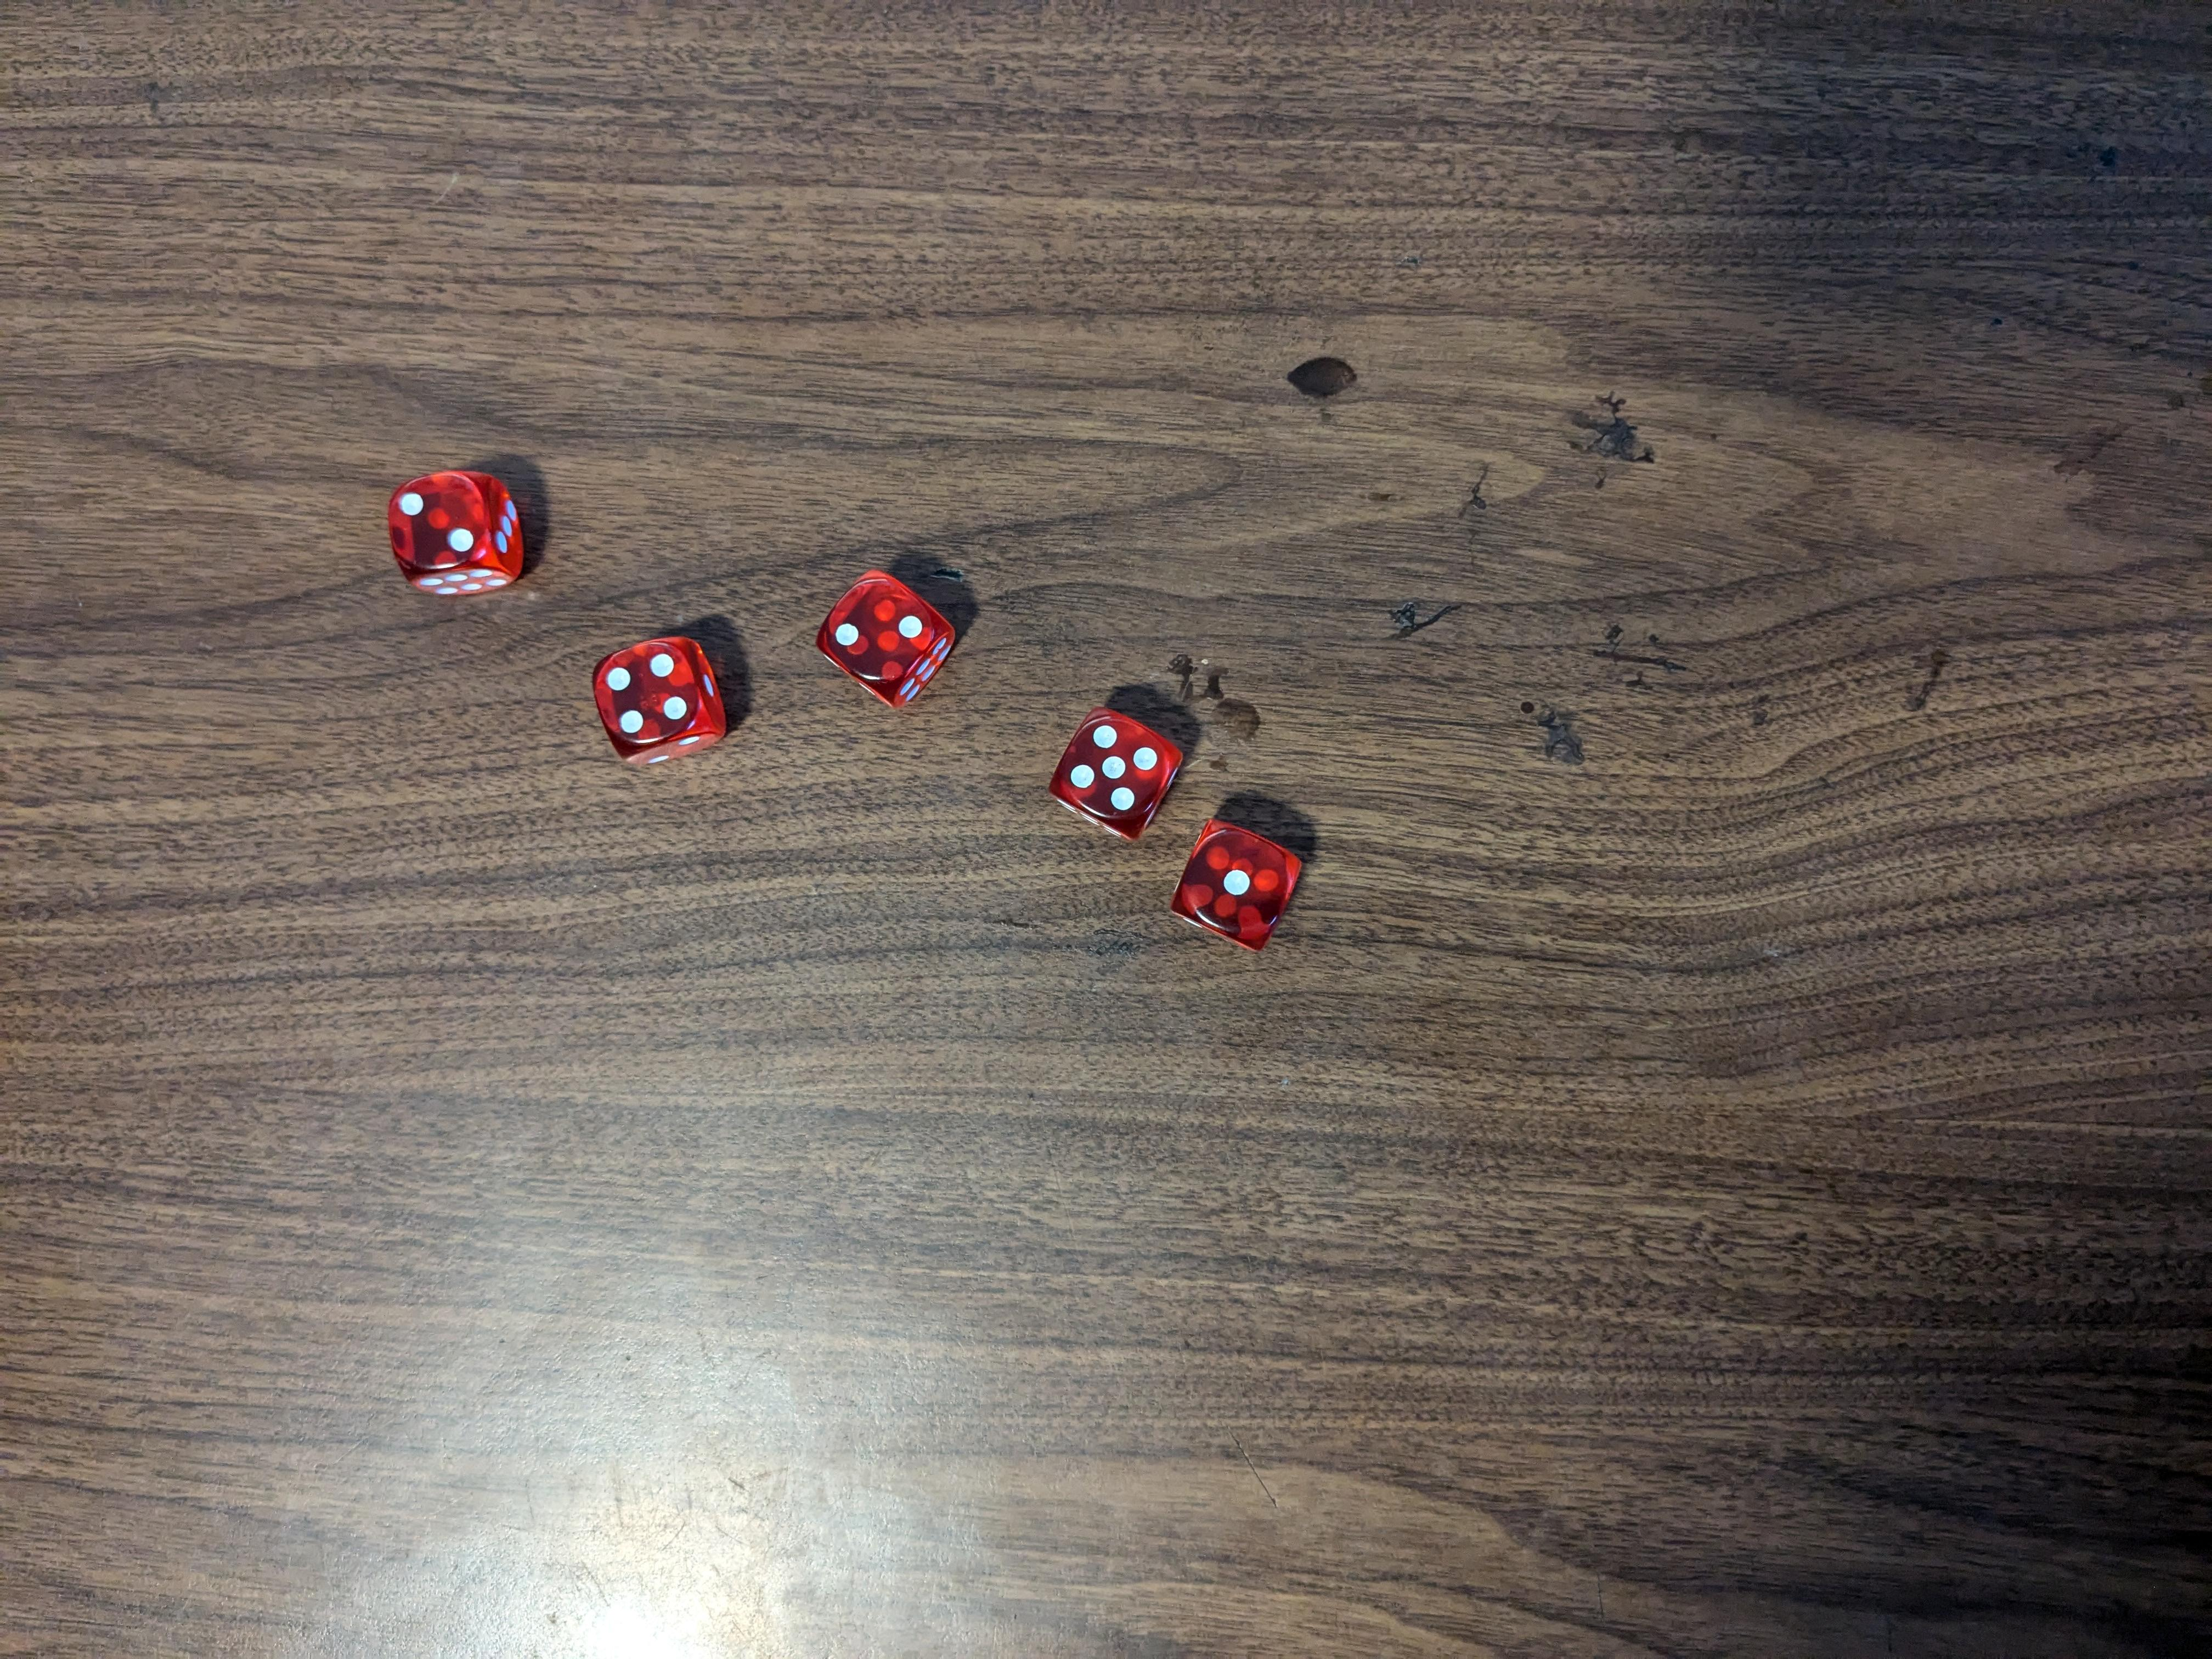five: (1055, 709, 1179, 843)
four: (587, 631, 737, 763)
one: (1176, 810, 1305, 953)
two: (385, 465, 540, 599), (812, 565, 954, 704)
